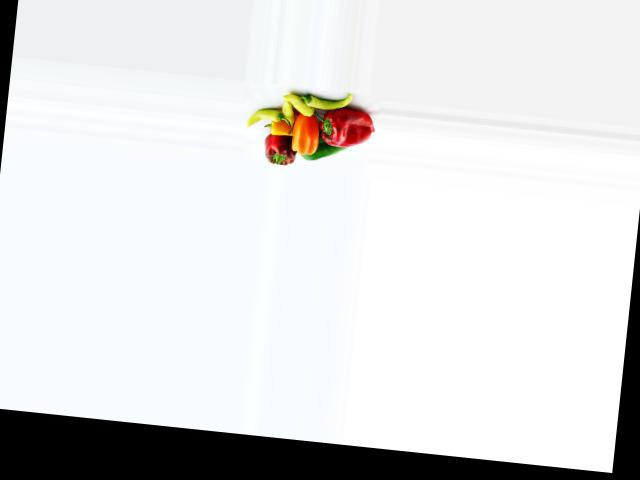bell_pepper: (296, 89, 356, 112)
